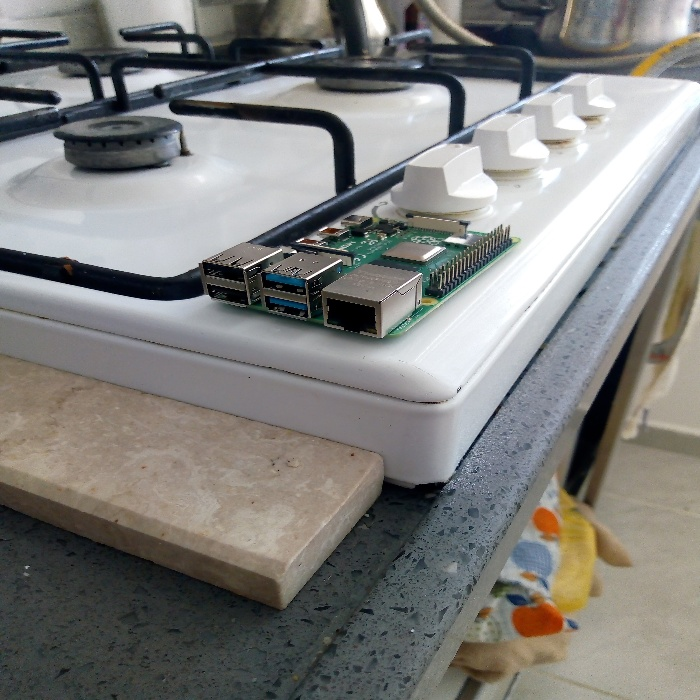raspberry: (175, 184, 532, 339)
